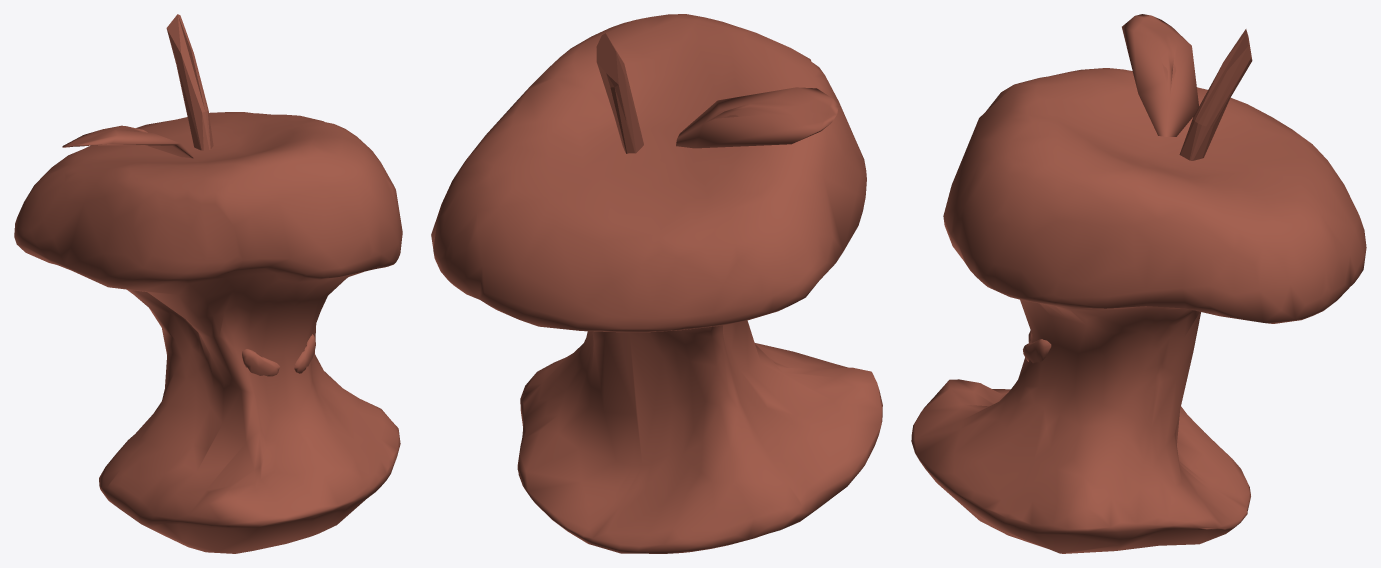
The model's file is EatenApple 1.fbx.
3 renders of one model, left to right at view 1: azimuth 30°, elevation 25°; view 2: azimuth 150°, elevation 25°; view 3: azimuth 270°, elevation 25°, orthographic. The views are drawn at different scales.
Parts seen in each view (by area): view 1: Plane.003; view 2: Plane.003; view 3: Plane.003.
Boxes of the visible parts, bbox=[...] form: Plane.003: bbox=[14, 14, 402, 553]; Plane.003: bbox=[431, 14, 882, 553]; Plane.003: bbox=[911, 14, 1366, 553].
Bounding box in the file's own units: 205 × 287 × 238.
